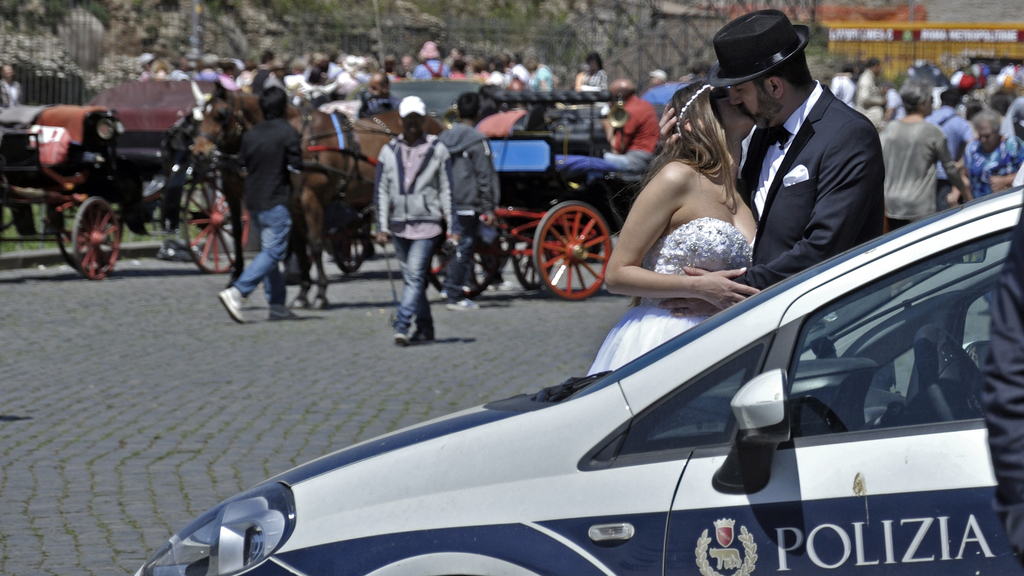Car: (135, 183, 1023, 575)
